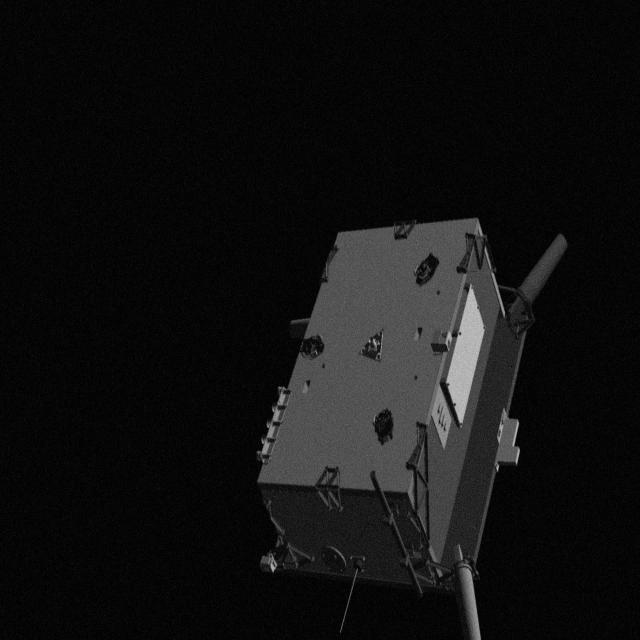satellite: (254, 208, 588, 640)
